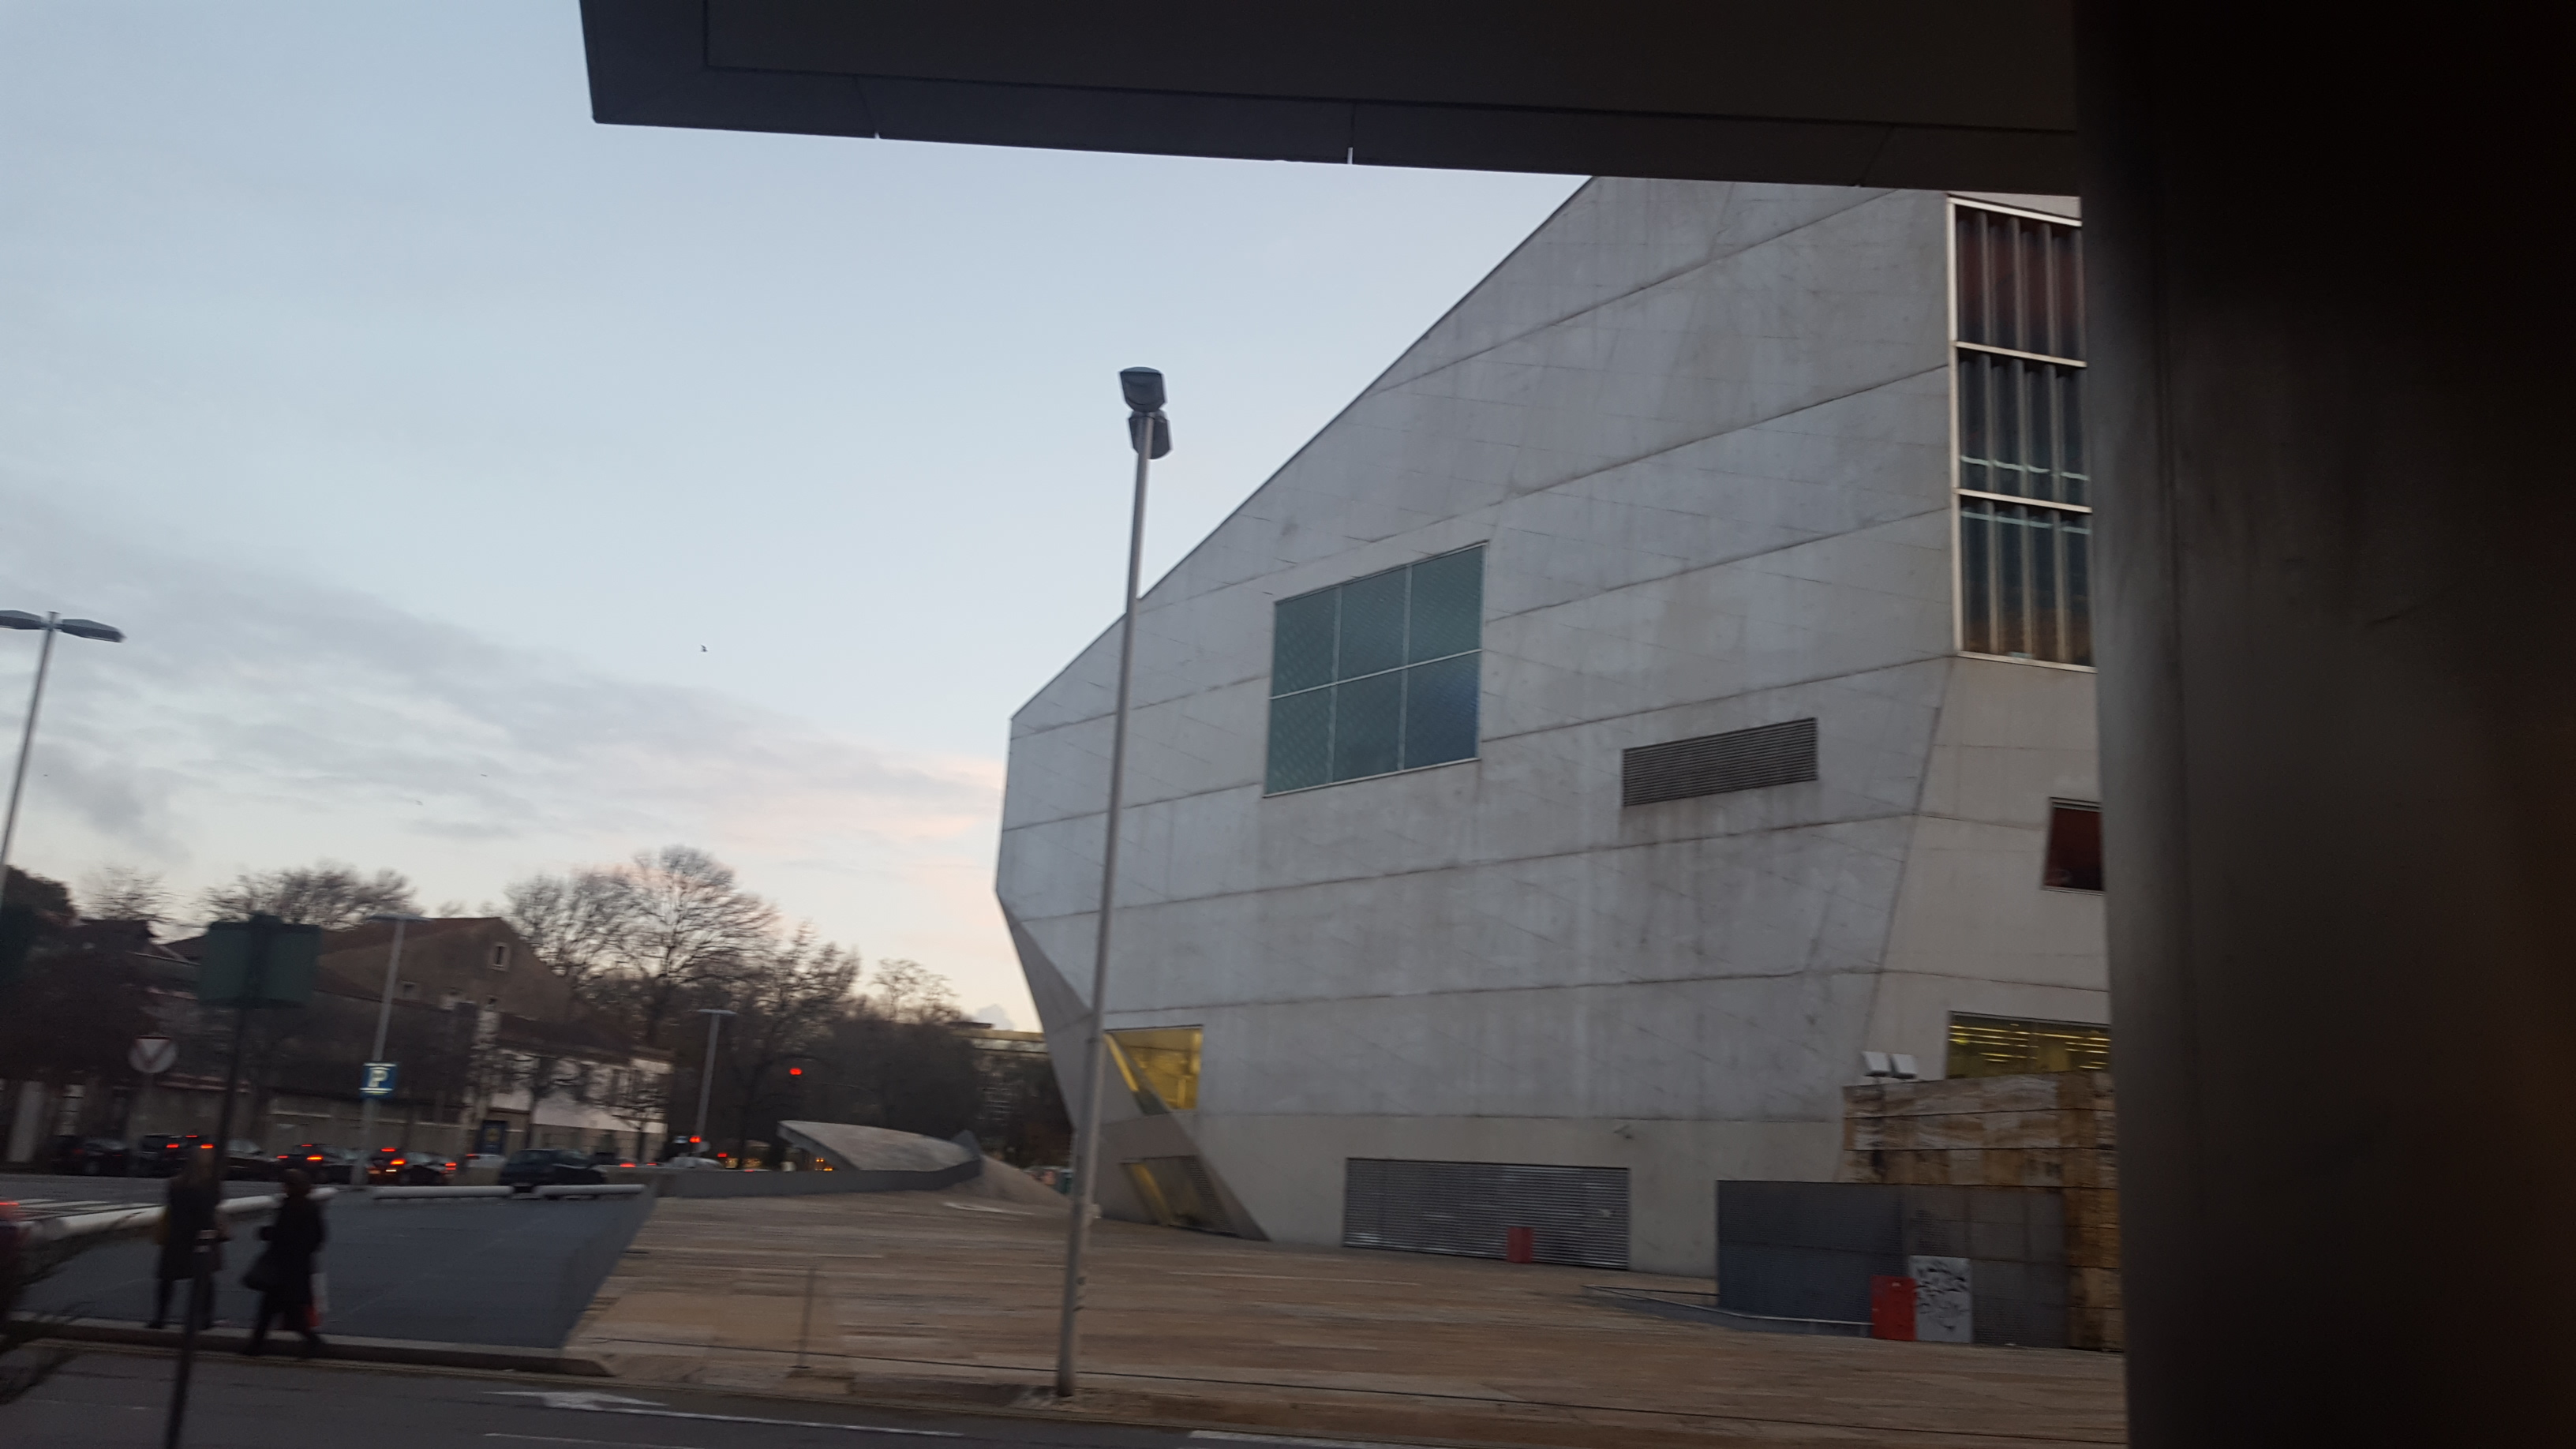musica: (966, 186, 2084, 1200)
